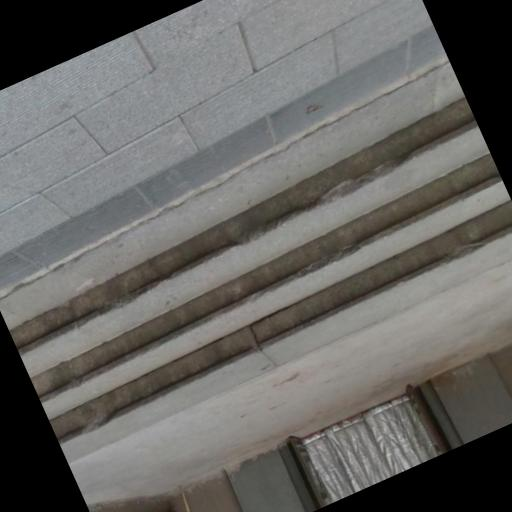stairs: (9, 98, 511, 460)
